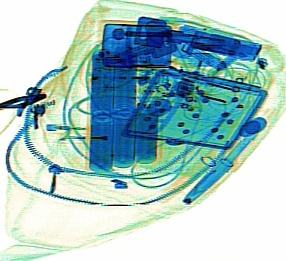lighter: (99, 21, 173, 68), (41, 122, 134, 146)
powerbank: (84, 38, 163, 172)
